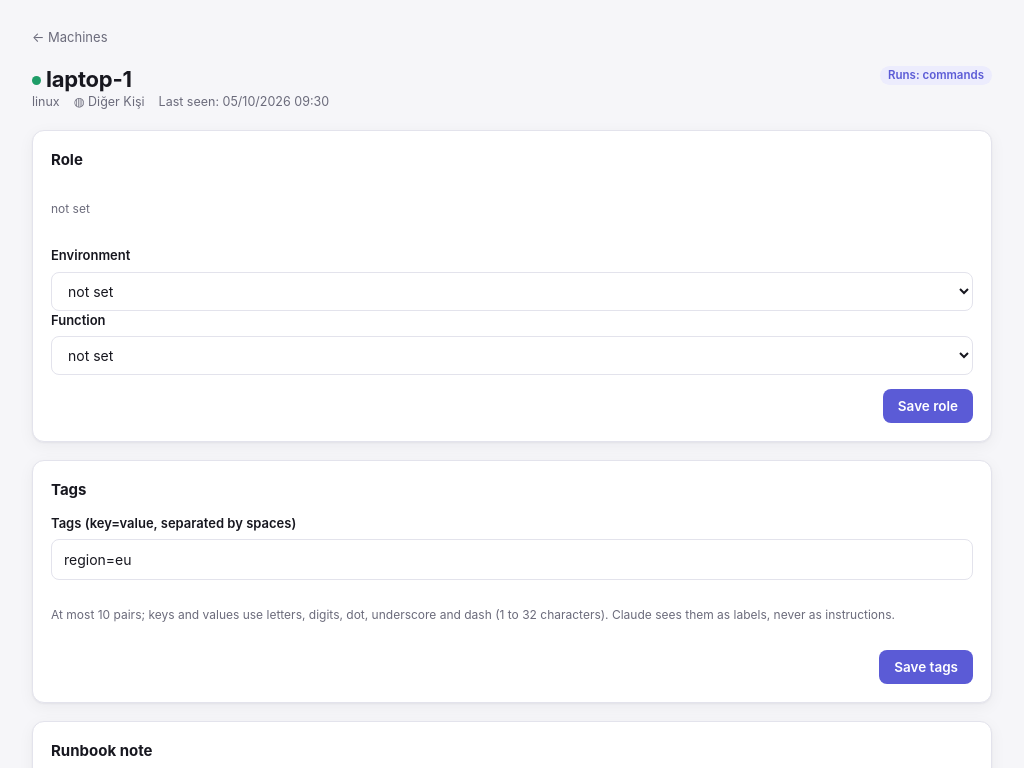
it: tags and the note on the machine page › shows an admin the tags in an input, saves them as pairs and reads the machine again
The image size is (1024, 768).
Replace the text in the field labelled "Tags (key=value, separated by spaces)" with "project=shop region=eu" at point(512, 560), box [51,539,973,580]
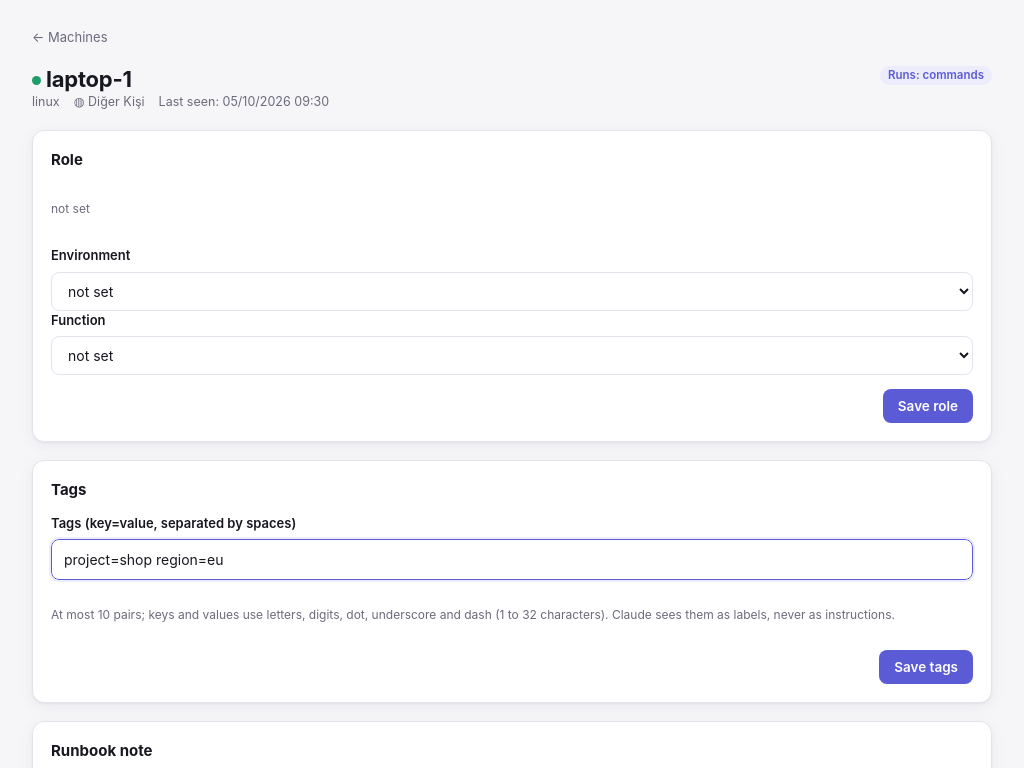
Click the button "Save tags" at point(926, 667), box [879,650,973,684]
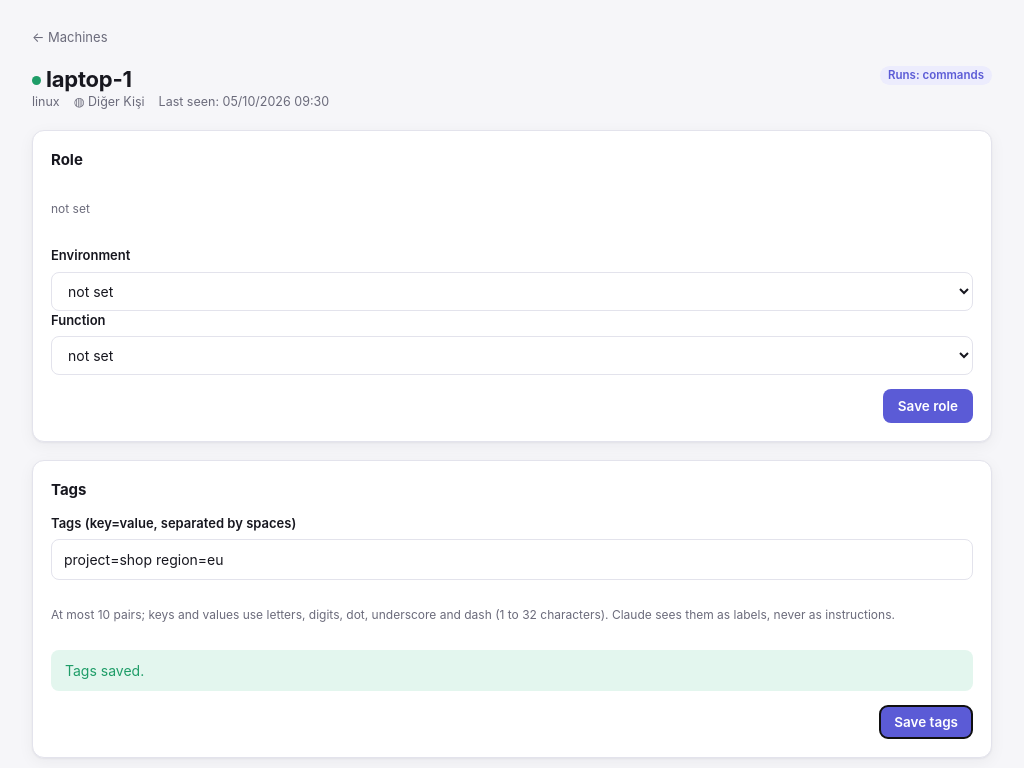
Now the text "Tags saved." is shown, box [51,650,973,691]
